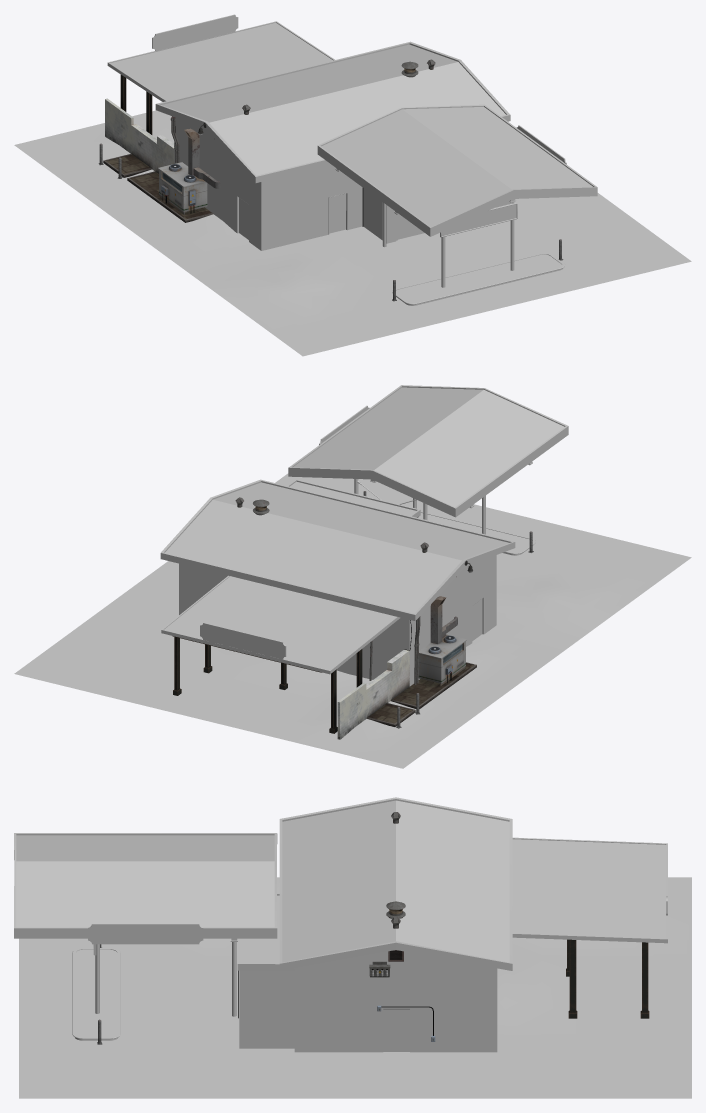
3 renders of one model, top to bottom at view 1: azimuth 30°, elevation 25°; view 2: azimuth 150°, elevation 25°; view 3: azimuth 270°, elevation 25°, orthographic. The views are drawn at different scales.
Visible parts, largest first — view 1: GEO1_ROOF_01; view 2: GEO1_ROOF_01; view 3: GEO1_ROOF_01.
Part boxes in pixels (x1,y1,x2,y2): GEO1_ROOF_01: [14, 14, 691, 356]; GEO1_ROOF_01: [14, 385, 691, 768]; GEO1_ROOF_01: [14, 797, 691, 1098].
Size of the model in its own units: 20 by 5.74 by 25.91.
